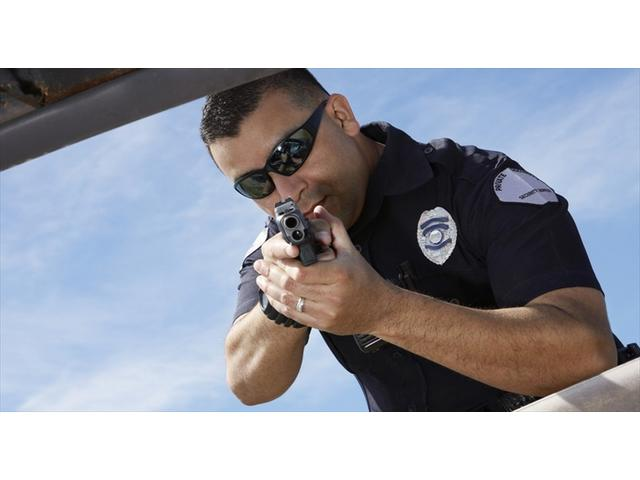pistol: (267, 198, 334, 320)
